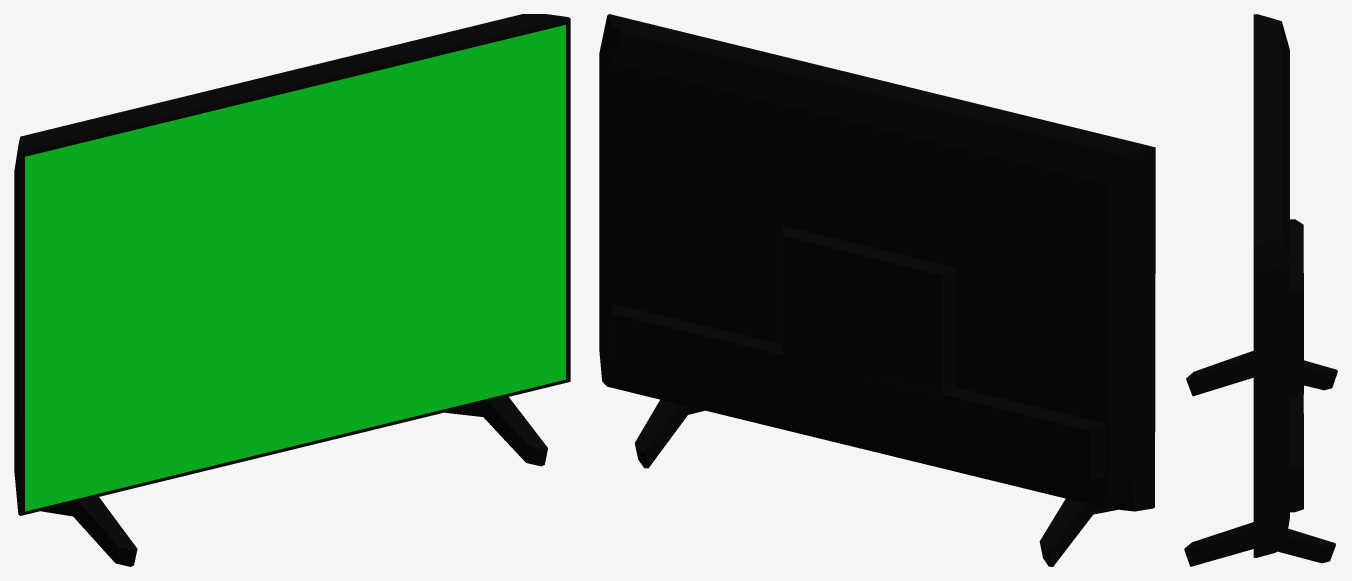
The picture shows the model from 3 angles, left to right: view 1: azimuth 30°, elevation 25°; view 2: azimuth 150°, elevation 25°; view 3: azimuth 270°, elevation 25°; orthographic projection. The views are drawn at different scales.
Visible parts, largest first — view 1: Plane.001_0; view 2: Plane.001_0; view 3: Plane.001_0.
Part boxes in pixels (bbox=[...]): Plane.001_0: bbox=[14, 14, 570, 566]; Plane.001_0: bbox=[599, 14, 1155, 566]; Plane.001_0: bbox=[1184, 14, 1337, 566].
Bounding box in the file's own units: 9.02 × 6.35 × 2.54.
